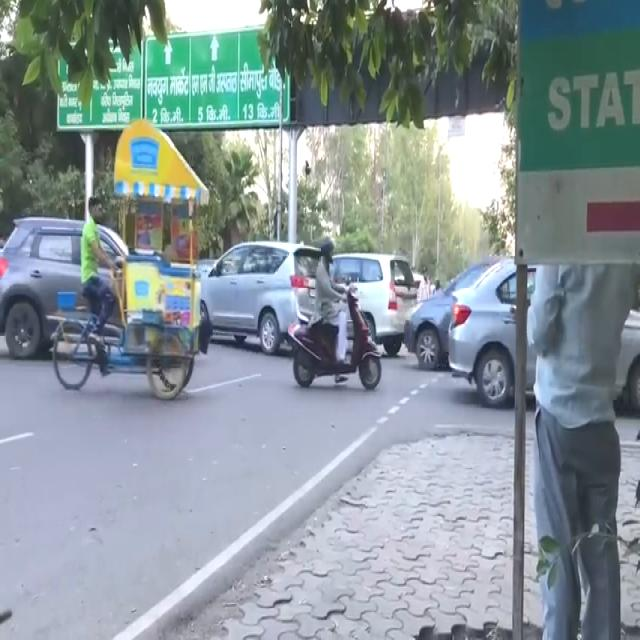MOTORCYCLE: (288, 310, 379, 390)
